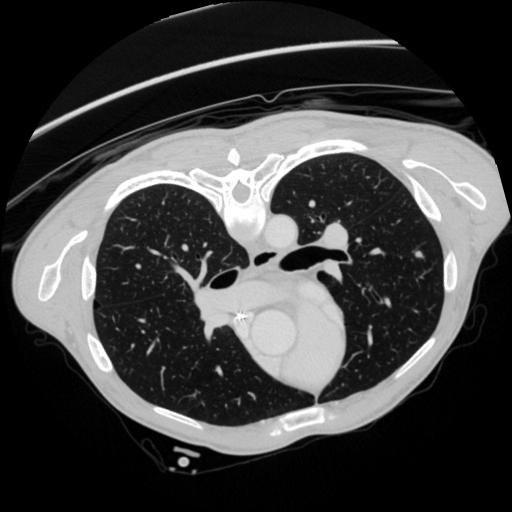nodule: (409, 247, 426, 264)
